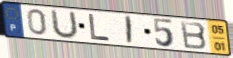0: (26, 8, 50, 37)
5: (153, 18, 179, 49)
B: (179, 20, 209, 51)
I: (126, 15, 134, 45)
L: (87, 13, 113, 42)
U: (50, 8, 80, 40)
